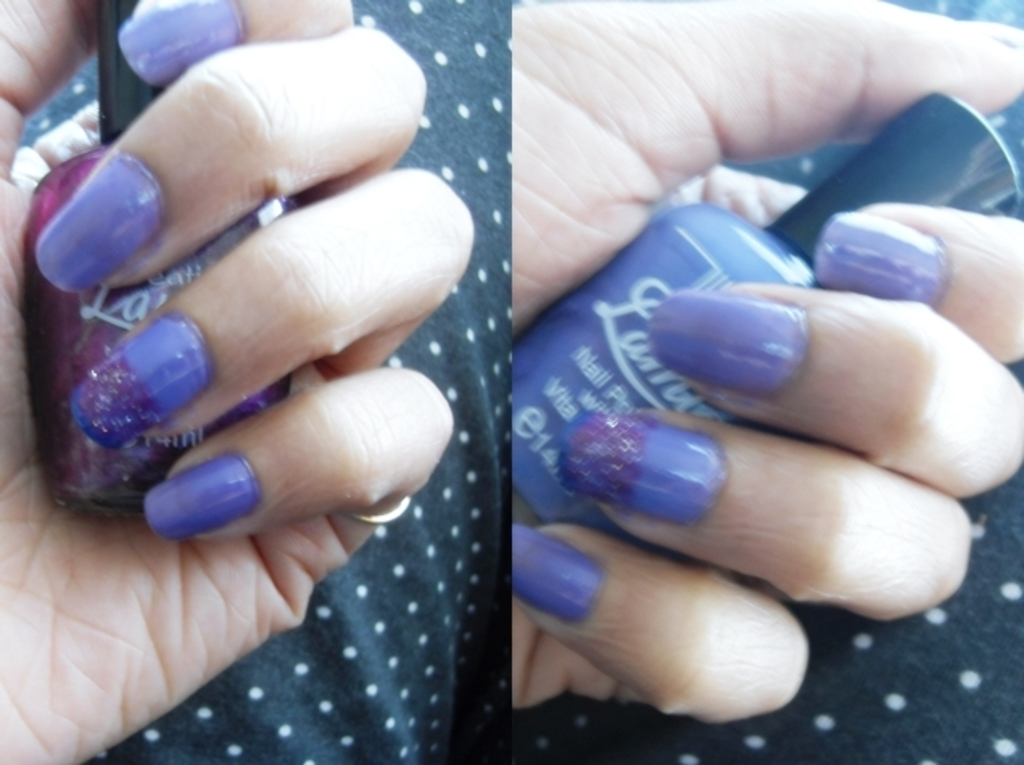Human_hand: (512, 0, 1024, 724), (0, 0, 475, 765)
